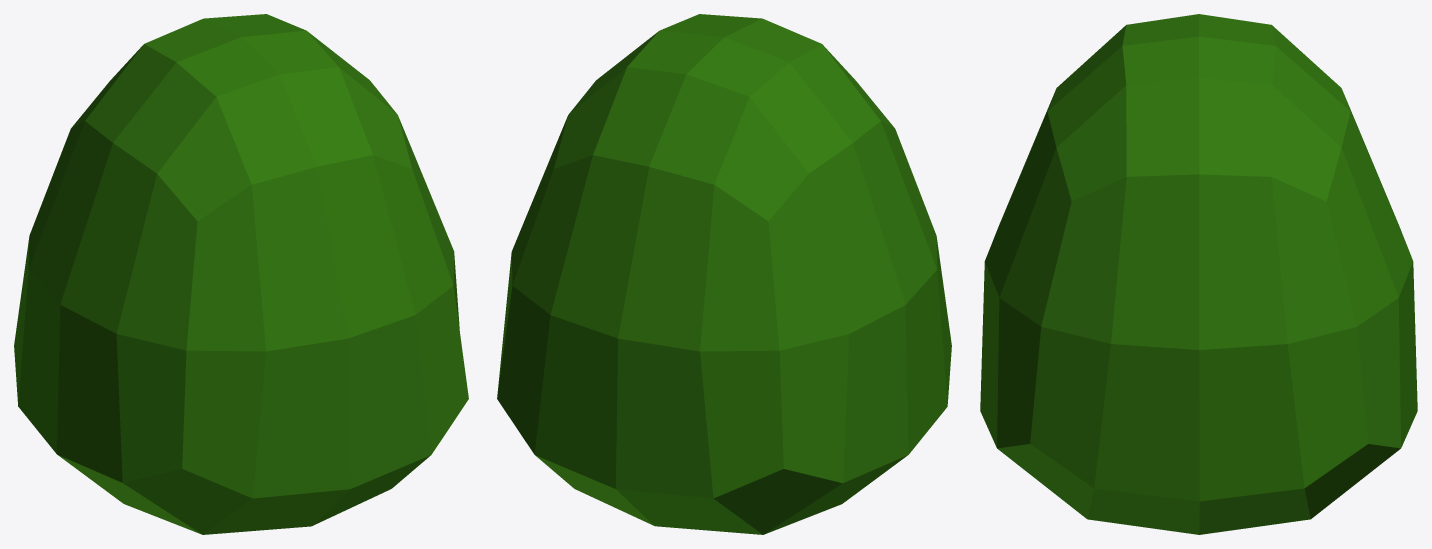
The model's file is Hedge1.glb.
3 renders of one model, left to right at view 1: azimuth 30°, elevation 25°; view 2: azimuth 150°, elevation 25°; view 3: azimuth 270°, elevation 25°, orthographic.
Parts seen in each view (by area): view 1: bush1; view 2: bush1; view 3: bush1.
Part boxes in pixels (box(x1,y1,x2,y2)): bush1: box(14, 14, 468, 534); bush1: box(497, 14, 951, 534); bush1: box(980, 14, 1417, 534).
Size of the model in its own units: 1.26 by 1.5 by 1.29.
